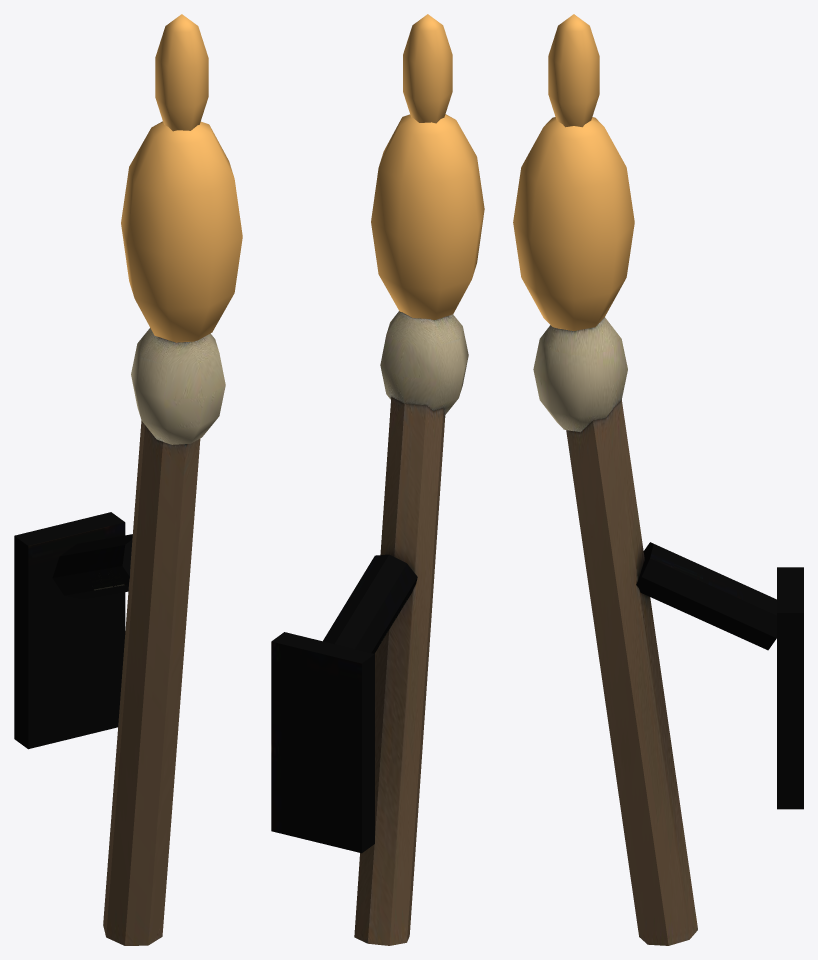
The model's file is torch.glb.
3 renders of one model, left to right at view 1: azimuth 30°, elevation 25°; view 2: azimuth 150°, elevation 25°; view 3: azimuth 270°, elevation 25°, orthographic. The views are drawn at different scales.
Visible parts, largest first — view 1: plate, flame, flame_tip; view 2: plate, flame, flame_tip; view 3: plate, flame, flame_tip.
Boxes of the visible parts, x1,y1,x2,y2 form: plate: (14,328,225,945); flame: (121,121,242,342); flame_tip: (155,14,208,131); plate: (271,311,468,945); flame: (371,114,484,319); flame_tip: (403,14,452,123); plate: (533,317,803,945); flame: (513,117,634,330); flame_tip: (548,14,599,127).
Bounding box in the file's own units: 0.09 × 0.7528 × 0.215.
2 materials, 1 textured.
